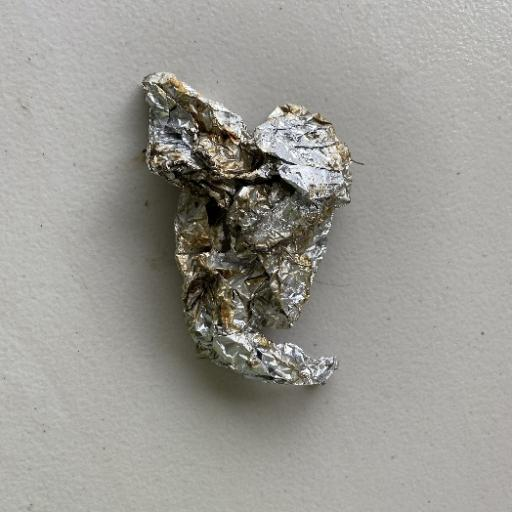Metal: (138, 69, 354, 389)
